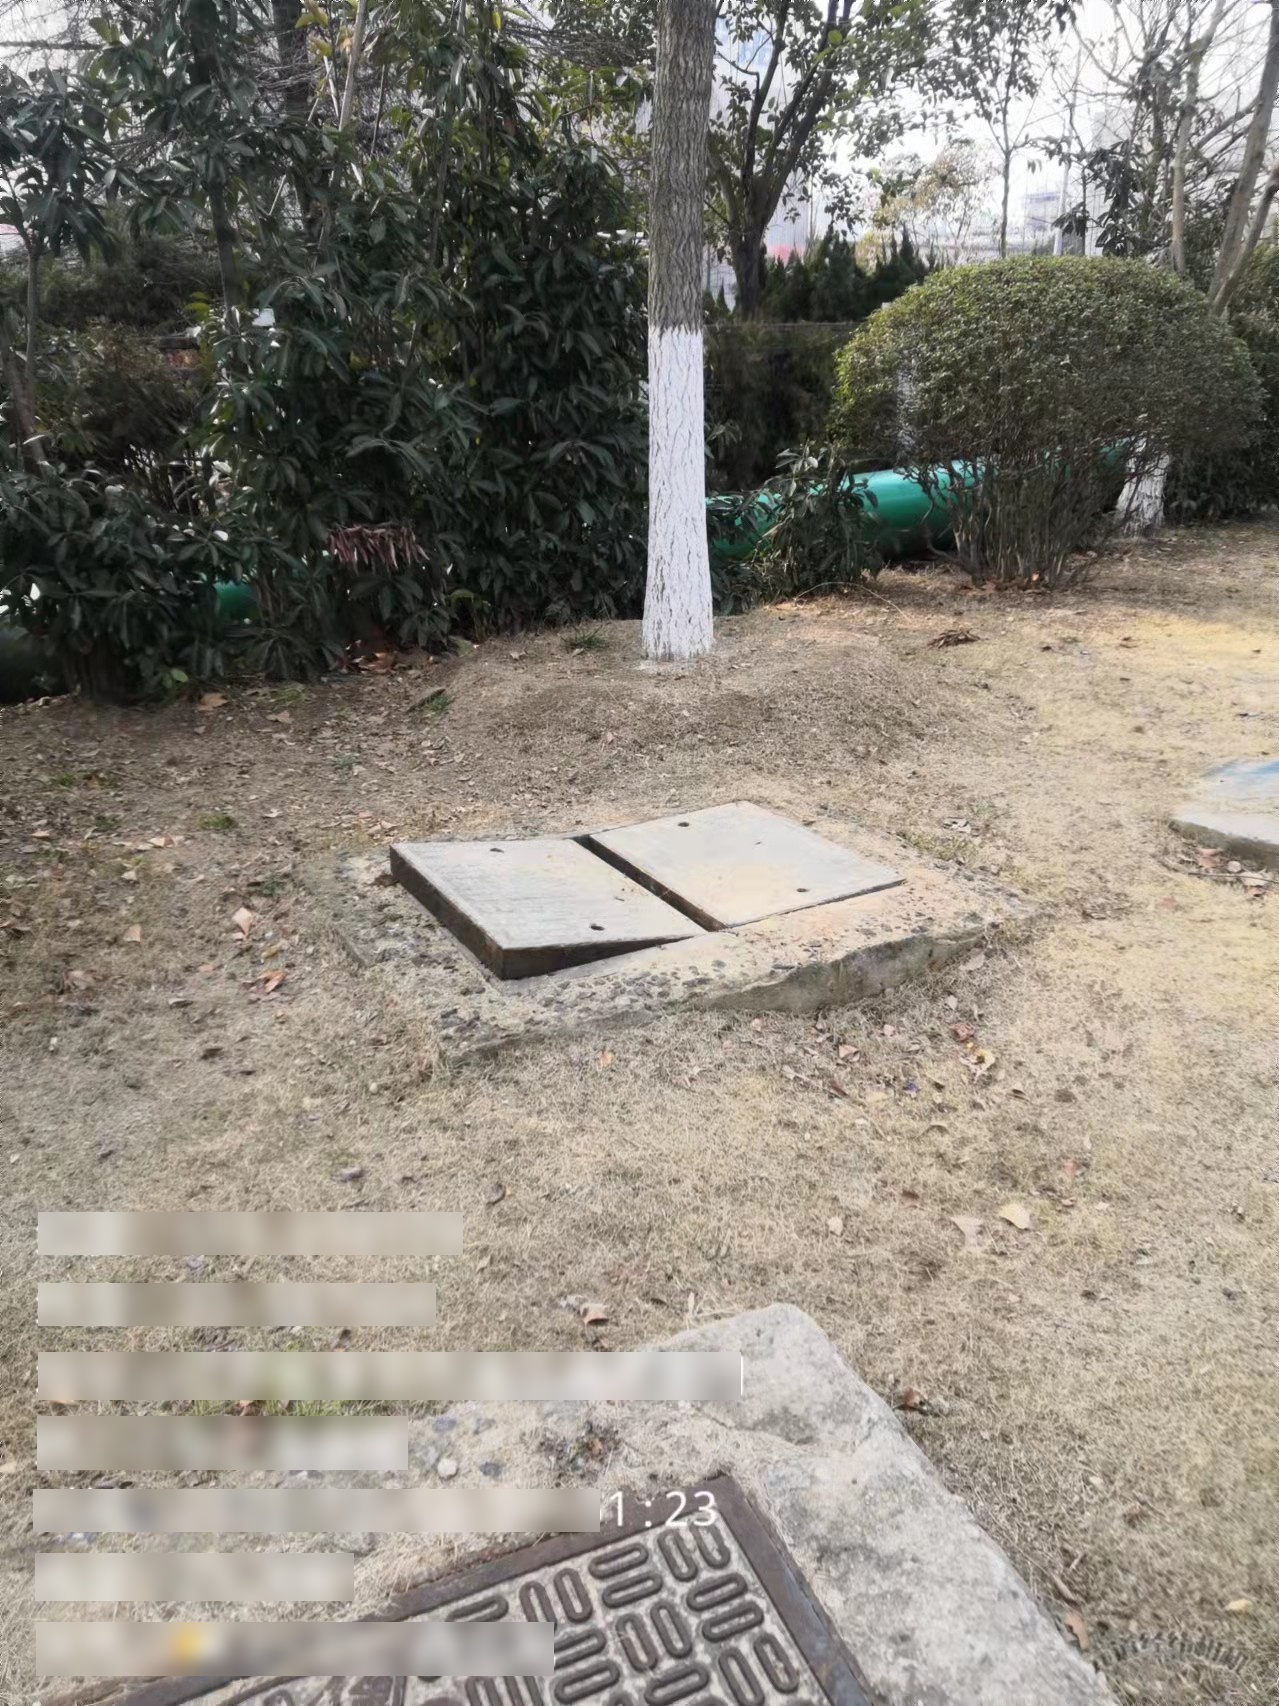uncovered: (386, 798, 904, 979)
